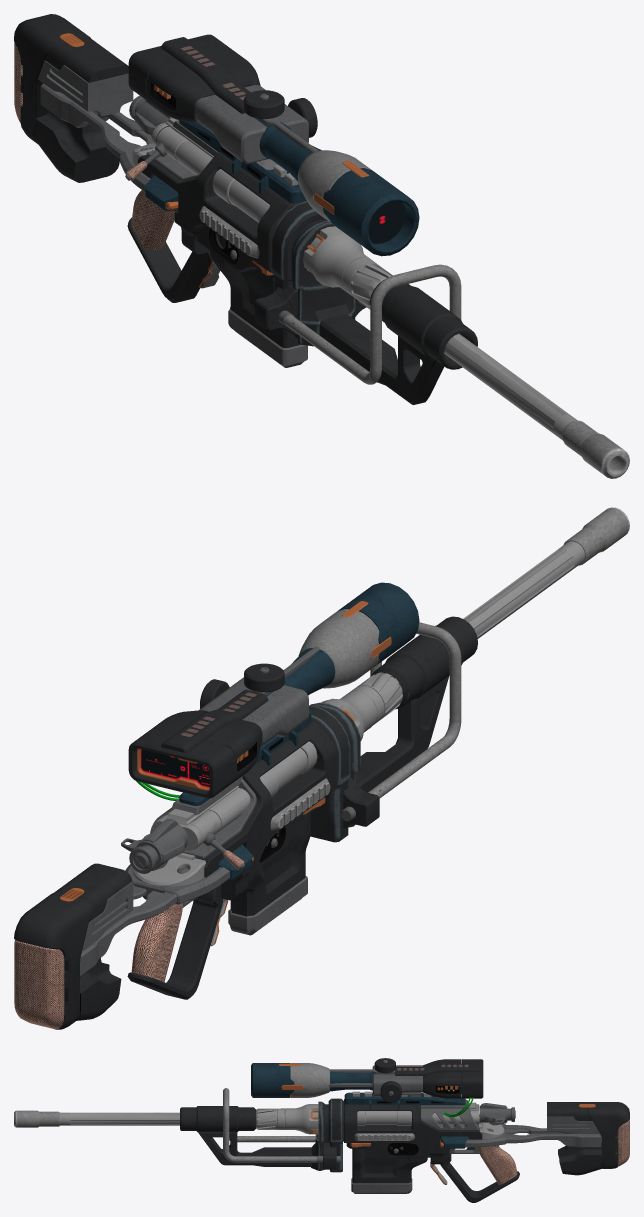
Rendered from SciFiWeapon_SketchfabProduction.fbx.
The picture shows the model from 3 angles, top to bottom: view 1: azimuth 30°, elevation 25°; view 2: azimuth 150°, elevation 25°; view 3: azimuth 270°, elevation 25°; orthographic projection. The views are drawn at different scales.
Parts seen in each view (by area): view 1: Body; view 2: Body; view 3: Body.
Boxes of the visible parts, bbox=[...] form: Body: bbox=[14, 14, 629, 478]; Body: bbox=[14, 507, 629, 1029]; Body: bbox=[14, 1058, 629, 1202].
Size of the model in its own units: 164 by 359 by 1431.
